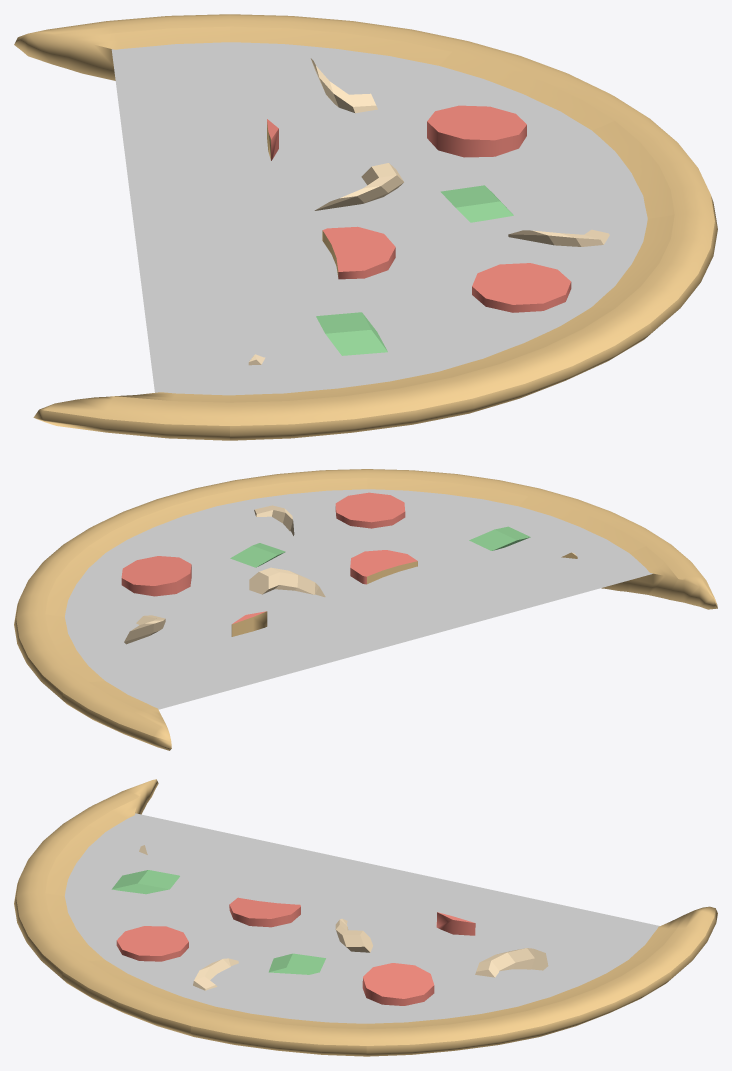
File: untitled.fbx_2nd_bite.fbx
3 views of the same model, one above another, from view 1: azimuth 30°, elevation 25°; view 2: azimuth 150°, elevation 25°; view 3: azimuth 270°, elevation 25° (orthographic). The views are drawn at different scales.
Visible parts, largest first — view 1: mesh_1850817464.002; view 2: mesh_1850817464.002; view 3: mesh_1850817464.002.
Part boxes in pixels (bbox=[...]): mesh_1850817464.002: bbox=[14, 14, 717, 440]; mesh_1850817464.002: bbox=[14, 469, 717, 750]; mesh_1850817464.002: bbox=[14, 779, 717, 1056].
Bounding box in the file's own units: 52.91 × 4.55 × 58.48.
